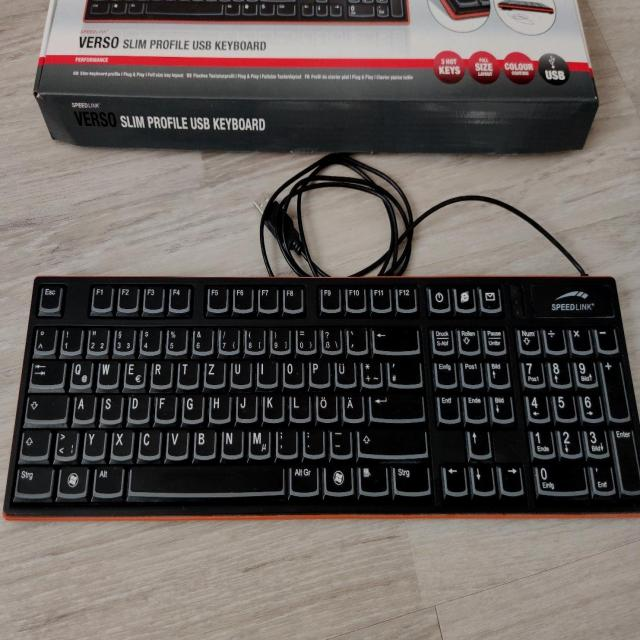0: (293, 325, 314, 351)
1: (59, 325, 81, 352)
2: (85, 324, 108, 352)
3: (111, 325, 134, 352)
4: (138, 325, 160, 352)
5: (164, 324, 186, 352)
6: (191, 325, 212, 352)
7: (217, 325, 238, 352)
8: (242, 325, 264, 352)
9: (267, 324, 289, 352)
a: (72, 392, 95, 420)
accent: (345, 325, 366, 351)
ae: (341, 390, 363, 419)
alt-left: (91, 463, 122, 494)
altgr-right: (288, 462, 318, 492)
b: (192, 426, 215, 456)
c: (136, 426, 159, 455)
caret: (31, 324, 55, 351)
comma: (274, 426, 296, 455)
d: (126, 392, 148, 421)
del: (370, 324, 417, 350)
e: (122, 357, 144, 386)
enter: (367, 390, 422, 418)
f: (153, 391, 175, 420)
g: (180, 391, 202, 420)
h: (207, 392, 229, 419)
hash: (386, 358, 421, 385)
i: (255, 357, 276, 384)
j: (234, 390, 255, 419)
k: (261, 391, 282, 419)
keyboard: (0, 269, 640, 518)
l: (288, 391, 309, 419)
less: (52, 426, 77, 457)
m: (246, 426, 269, 455)
minus: (328, 426, 350, 455)
n: (220, 426, 242, 455)
o: (281, 357, 302, 384)
oe: (314, 390, 336, 419)
p: (307, 357, 328, 383)
plus: (359, 357, 380, 384)
point: (301, 426, 323, 454)
q: (68, 357, 91, 386)
r: (149, 358, 170, 385)
s: (99, 391, 122, 421)
shift-left: (18, 427, 49, 457)
shift-lock: (22, 390, 67, 419)
shift-right: (355, 424, 425, 454)
space: (126, 462, 283, 493)
ss: (319, 325, 340, 351)
strg-left: (11, 463, 53, 495)
strg-right: (390, 462, 430, 493)
t: (176, 358, 197, 384)
tab: (28, 357, 64, 385)
u: (229, 358, 250, 384)
ue: (333, 358, 355, 385)
v: (164, 427, 187, 456)
w: (96, 357, 118, 385)
x: (109, 426, 132, 456)
y: (82, 427, 105, 456)
z: (203, 358, 224, 385)
